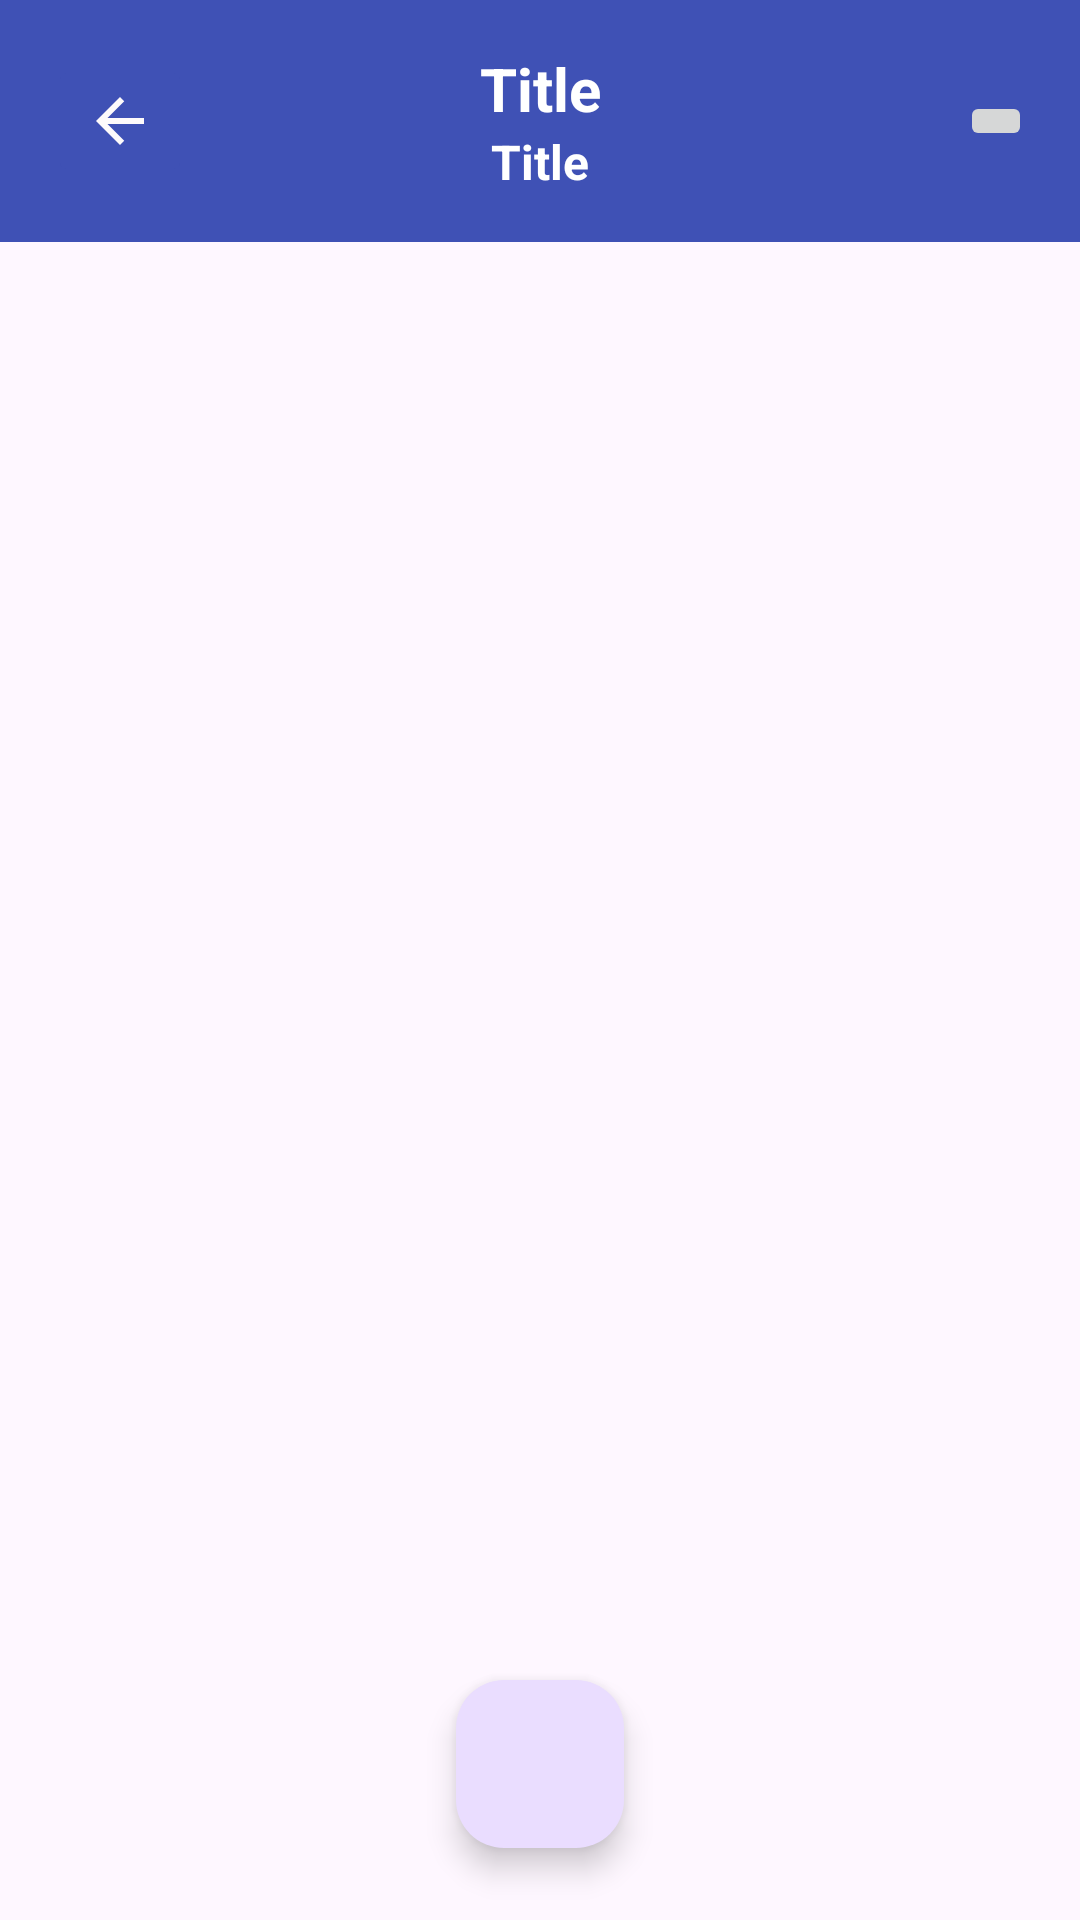

Where to tap for icons on this 1080 x 1920 app screen, as (x=x, y=y):
arrow back: (x=120, y=121)
